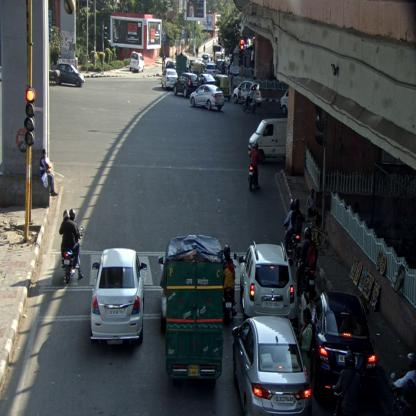car: (231, 315, 314, 415), (314, 292, 376, 402), (90, 247, 148, 352), (239, 241, 297, 318), (247, 118, 288, 161), (190, 84, 225, 112), (55, 62, 85, 88), (233, 79, 262, 104), (174, 72, 200, 98), (160, 68, 178, 91), (128, 51, 144, 75)
motorcycle: (58, 209, 83, 284), (382, 353, 416, 408), (300, 226, 317, 302), (282, 199, 301, 264), (222, 245, 237, 324), (247, 142, 259, 191), (244, 88, 257, 113)
truck: (166, 235, 223, 394), (176, 51, 191, 75)
